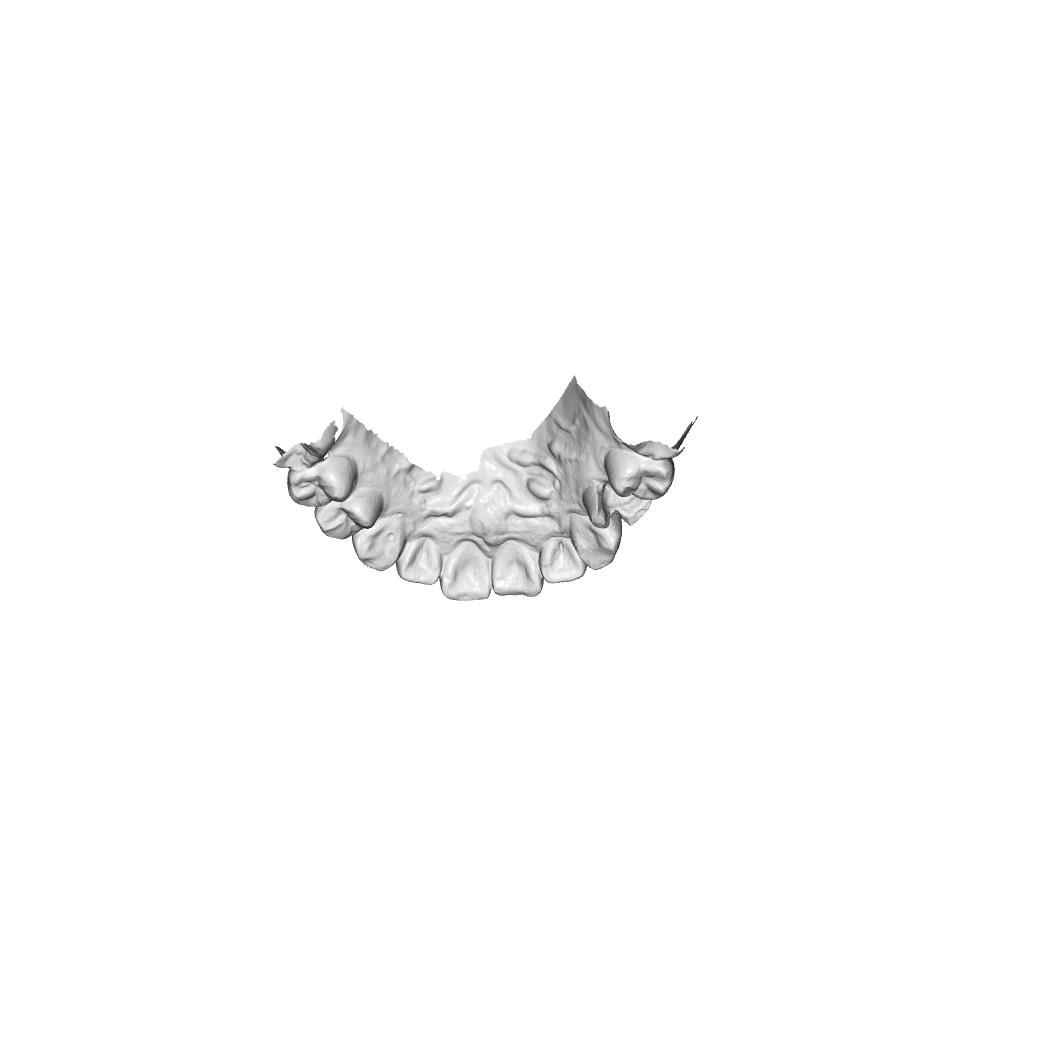canine: (351, 513, 406, 573), (570, 513, 624, 571)
incisor: (437, 549, 493, 604), (488, 549, 542, 599), (537, 538, 588, 585), (397, 537, 442, 587)
premolar: (584, 477, 658, 529), (283, 459, 357, 507), (606, 450, 671, 501), (310, 496, 379, 541)
